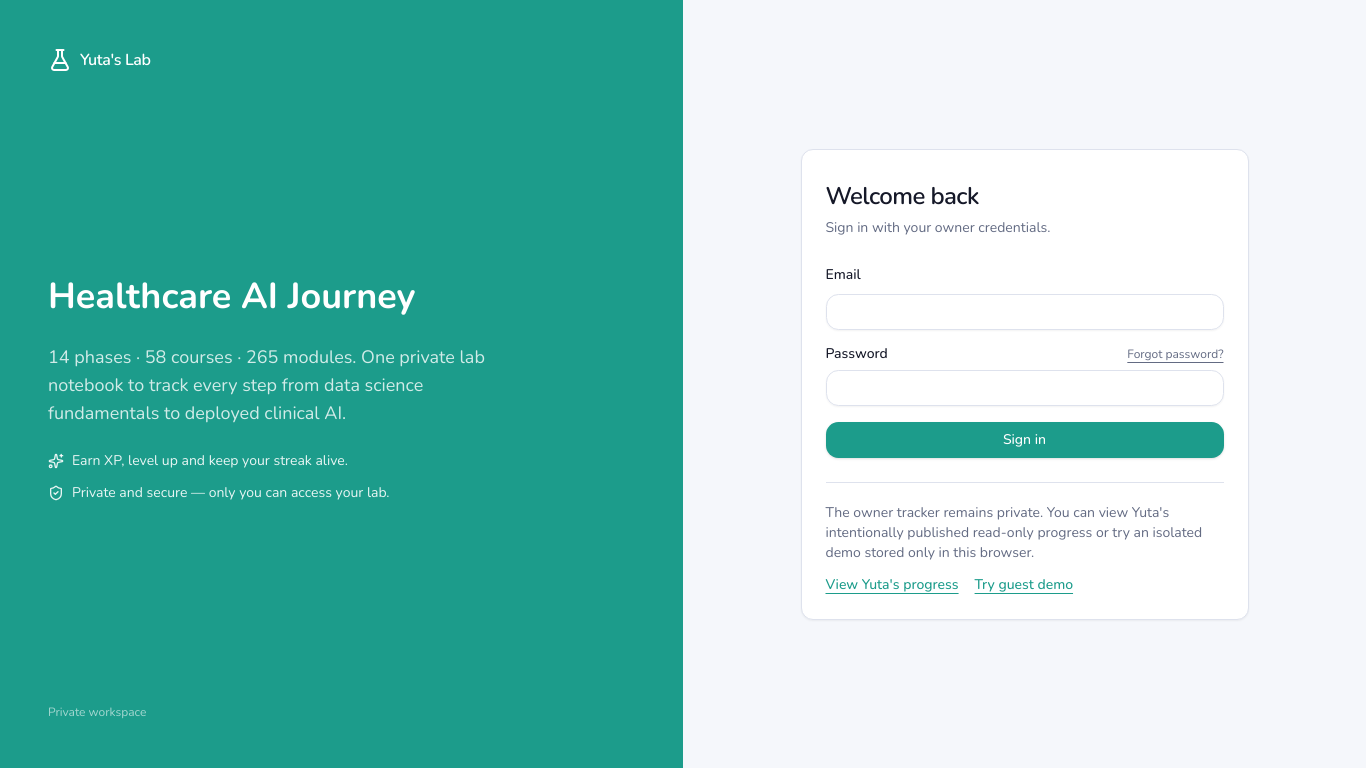
Test case: LoginPage › preserves generic failed-sign-in feedback
Type "owner@example.com" into the field labelled "Email" at {"x": 1024, "y": 312}, box [826,294,1224,330]
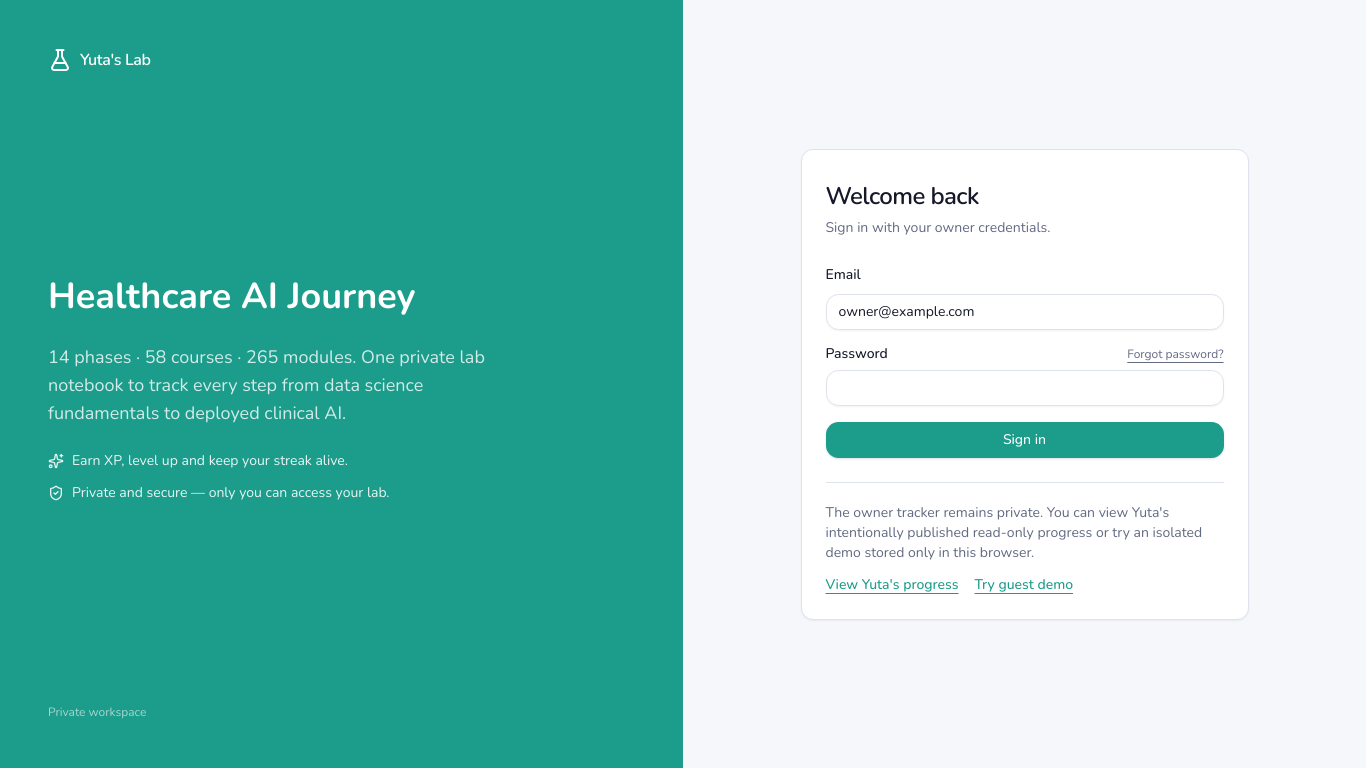
Type "safe-password" into the password field labelled "Password" at {"x": 1024, "y": 388}, box [826,370,1224,406]
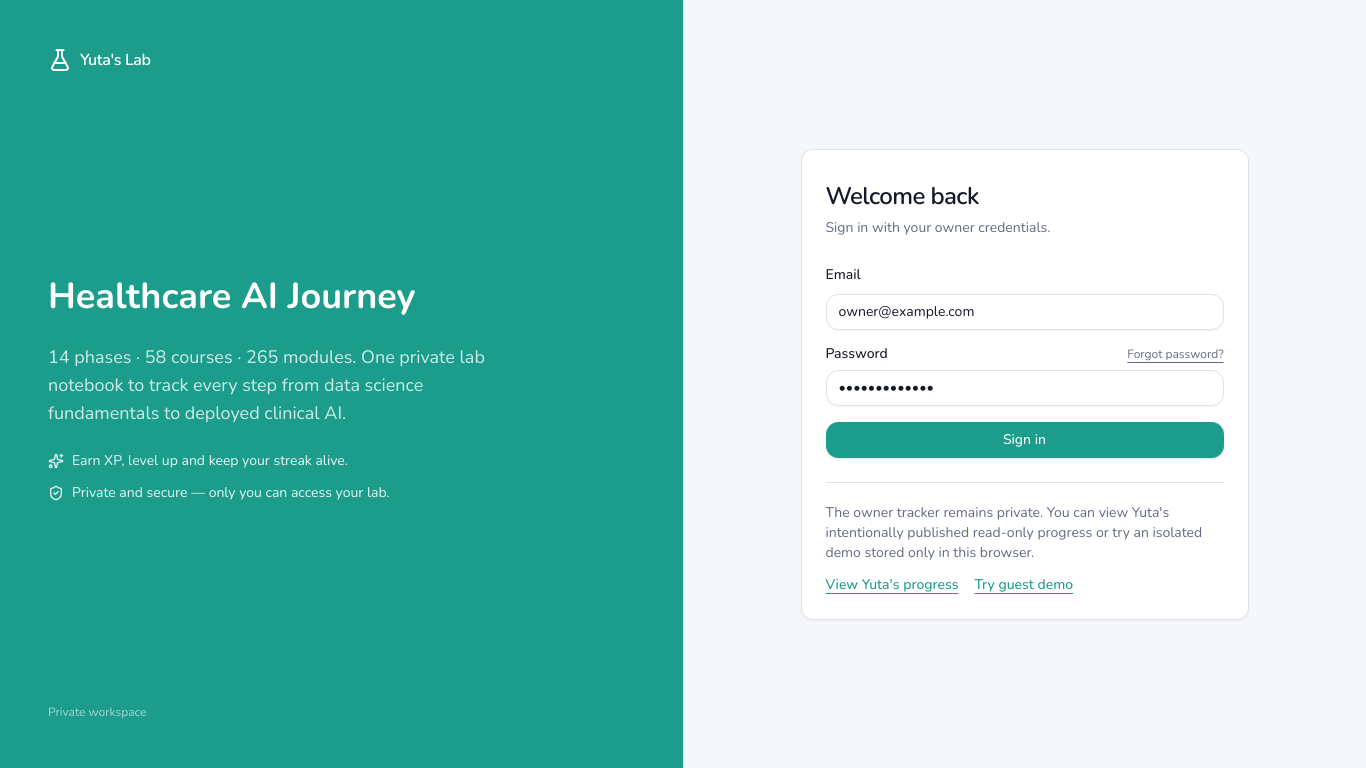
Submit the form with test id "login-form", box [826,262,1224,458]
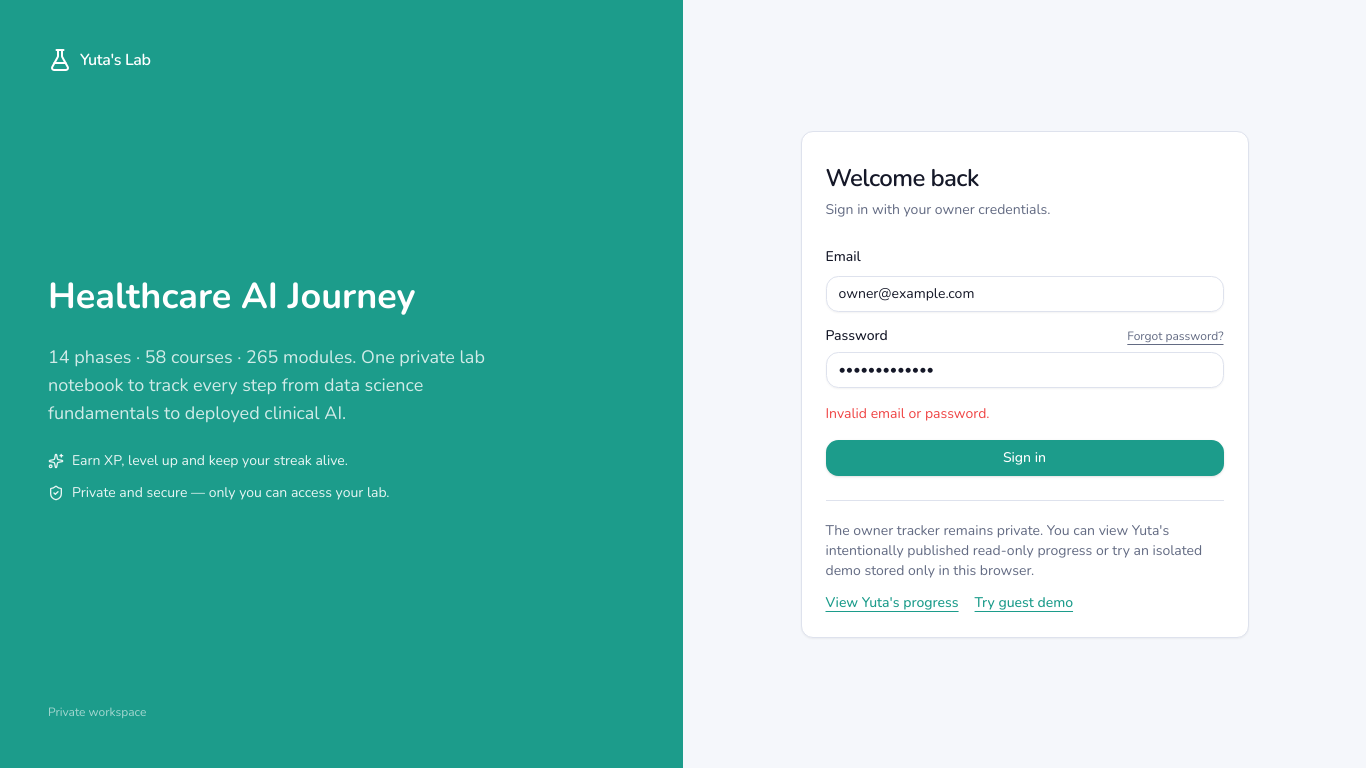
Expected: the message reads "Invalid email or password.", [826,404,990,422]
